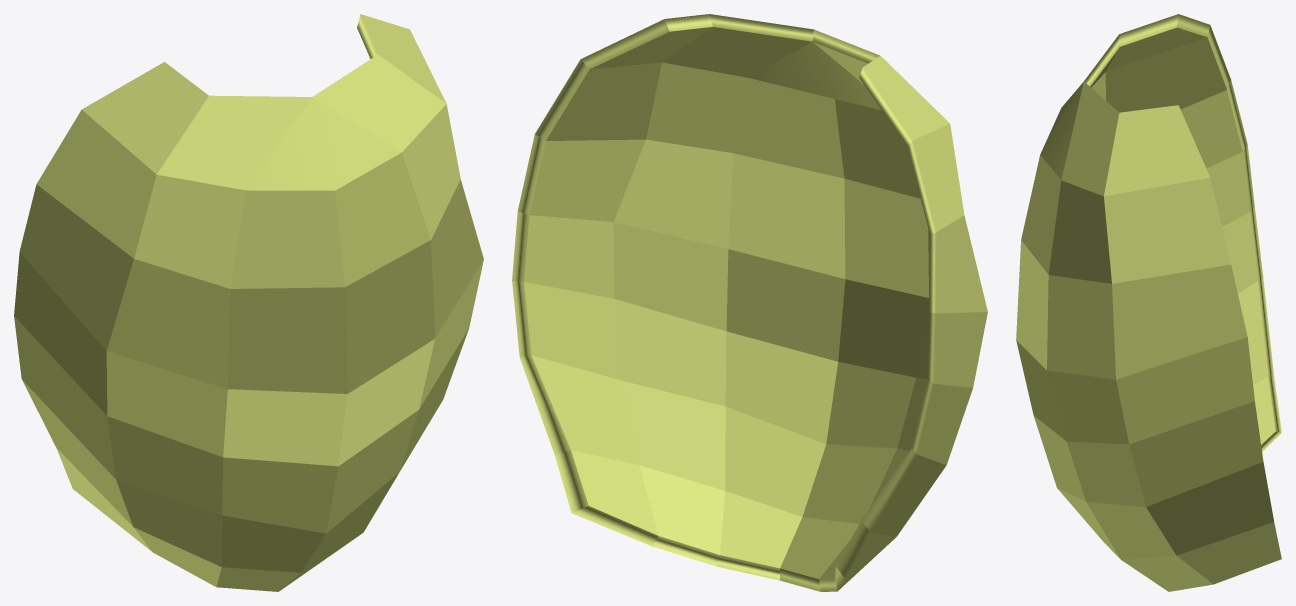
Rendered from Female_Mask_shop.fbx.
3 views of the same model, side by side, from view 1: azimuth 30°, elevation 25°; view 2: azimuth 150°, elevation 25°; view 3: azimuth 270°, elevation 25° (orthographic). The views are drawn at different scales.
Parts seen in each view (by area): view 1: FemaleVillager_Mask_Basic; view 2: FemaleVillager_Mask_Basic; view 3: FemaleVillager_Mask_Basic.
Part boxes in pixels (x1,y1,x2,y2): FemaleVillager_Mask_Basic: (14, 14, 483, 591); FemaleVillager_Mask_Basic: (512, 14, 987, 591); FemaleVillager_Mask_Basic: (1016, 14, 1281, 591).
Size of the model in its own units: 3.34 by 4.15 by 1.93.
